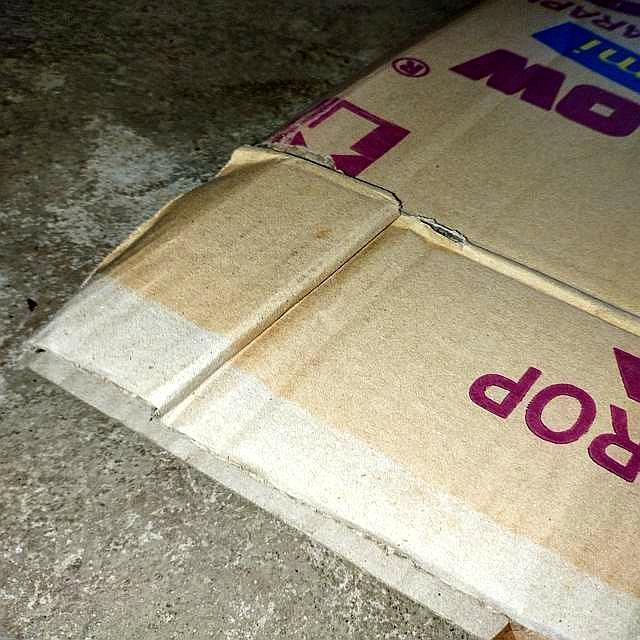Biodegradable: (21, 1, 640, 640)
